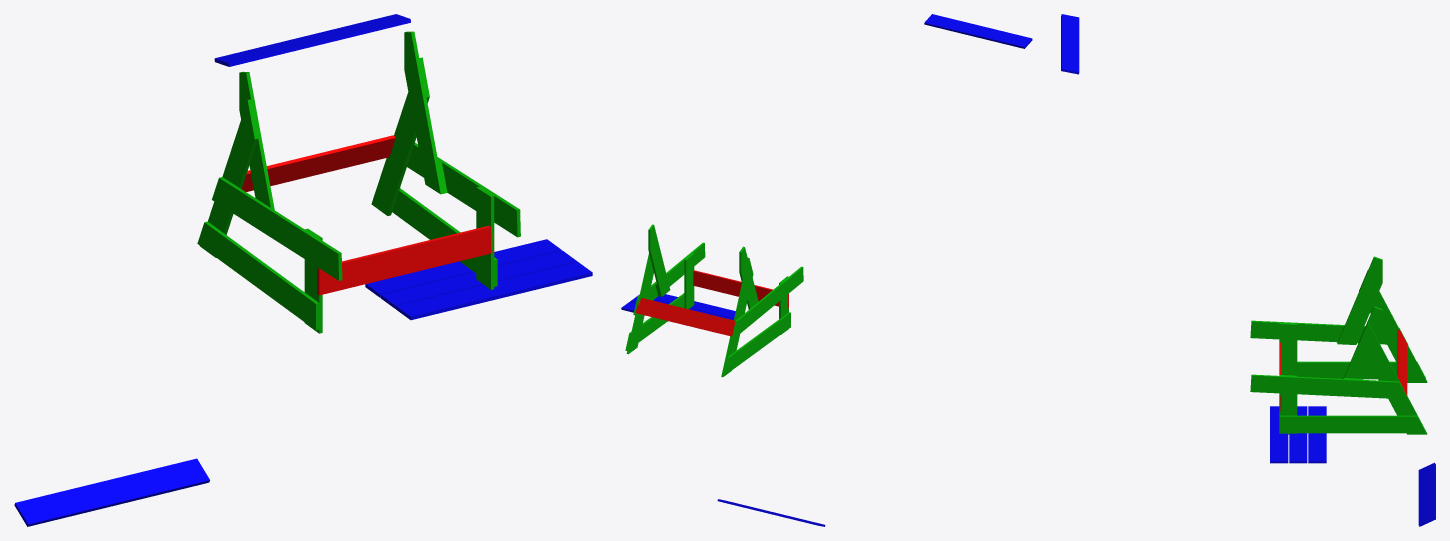
The model's file is result.glb.
The picture shows the model from 3 angles, left to right: view 1: azimuth 30°, elevation 25°; view 2: azimuth 150°, elevation 25°; view 3: azimuth 270°, elevation 25°; orthographic projection. The views are drawn at different scales.
Visible parts, largest first — view 1: e93bb5ff-88c2-441e-aba6-53cfbabfb103__Box_6, 29064bc6-d3b1-45e9-8a73-ac702ae31a4f__Plane_1, 2b52223c-5b52-4b31-a0db-f60531f8ba66__undefined, 1b99a4cc-5bf3-4616-a4fb-5c15aed0a40a__undefined, b00116c8-aac3-4a4d-a75a-b3e1e2110447__Box_4, e3aa825b-d6b2-41d5-82b6-837937b0a597__Plane_2, 0a5c7fd8-4dee-433b-a548-eaddd6d4c907__undefined, f4d912d7-915b-49dc-9384-18cebc7cd4a2__Box_1, fa933ecd-ed28-437e-928a-7f351b9d5d85__undefined, 597830af-ca4b-41d0-848a-595333e2e475__Box_3, c20e9093-051f-43f5-a5d2-168a42f6fa03__Box_2, 598ba5a5-7bb7-477b-8e8f-c9a5cd9c8aea__undefined (+5 smaller); view 2: e3aa825b-d6b2-41d5-82b6-837937b0a597__Plane_2, 597830af-ca4b-41d0-848a-595333e2e475__Box_3, 2b52223c-5b52-4b31-a0db-f60531f8ba66__undefined, 1b99a4cc-5bf3-4616-a4fb-5c15aed0a40a__undefined, 29064bc6-d3b1-45e9-8a73-ac702ae31a4f__Plane_1, 0a5c7fd8-4dee-433b-a548-eaddd6d4c907__undefined, 0a626ba4-bb88-4def-83fb-74dab95e48f7__undefined, 598ba5a5-7bb7-477b-8e8f-c9a5cd9c8aea__undefined, fa933ecd-ed28-437e-928a-7f351b9d5d85__undefined, dc344d21-0e3e-402d-bc57-09a06a281346__undefined, 7c42f0c5-e354-4944-8df0-8e3da6d6a4d5__Plane, b00116c8-aac3-4a4d-a75a-b3e1e2110447__Box_4; view 3: 598ba5a5-7bb7-477b-8e8f-c9a5cd9c8aea__undefined, 7c42f0c5-e354-4944-8df0-8e3da6d6a4d5__Plane, fa933ecd-ed28-437e-928a-7f351b9d5d85__undefined (×2), a610e9fa-6203-4c58-a8f4-d0d3d95791eb__undefined, 2b52223c-5b52-4b31-a0db-f60531f8ba66__undefined, 0a626ba4-bb88-4def-83fb-74dab95e48f7__undefined, 597830af-ca4b-41d0-848a-595333e2e475__Box_3, 1b99a4cc-5bf3-4616-a4fb-5c15aed0a40a__undefined, e93bb5ff-88c2-441e-aba6-53cfbabfb103__Box_6, 6e66ebae-b669-4c2a-bedb-cf71513a62e6__undefined, 0a5c7fd8-4dee-433b-a548-eaddd6d4c907__undefined, b00116c8-aac3-4a4d-a75a-b3e1e2110447__Box_4 (+4 smaller).
Boxes of the visible parts, bbox=[...] form: e93bb5ff-88c2-441e-aba6-53cfbabfb103__Box_6: bbox=[14, 458, 209, 526]; 29064bc6-d3b1-45e9-8a73-ac702ae31a4f__Plane_1: bbox=[317, 225, 494, 295]; 2b52223c-5b52-4b31-a0db-f60531f8ba66__undefined: bbox=[212, 177, 342, 280]; 1b99a4cc-5bf3-4616-a4fb-5c15aed0a40a__undefined: bbox=[197, 221, 319, 330]; b00116c8-aac3-4a4d-a75a-b3e1e2110447__Box_4: bbox=[396, 261, 592, 320]; e3aa825b-d6b2-41d5-82b6-837937b0a597__Plane_2: bbox=[242, 135, 395, 191]; 0a5c7fd8-4dee-433b-a548-eaddd6d4c907__undefined: bbox=[404, 31, 443, 194]; f4d912d7-915b-49dc-9384-18cebc7cd4a2__Box_1: bbox=[380, 250, 577, 308]; fa933ecd-ed28-437e-928a-7f351b9d5d85__undefined: bbox=[371, 57, 429, 215]; 597830af-ca4b-41d0-848a-595333e2e475__Box_3: bbox=[214, 14, 410, 66]; c20e9093-051f-43f5-a5d2-168a42f6fa03__Box_2: bbox=[365, 239, 561, 297]; 598ba5a5-7bb7-477b-8e8f-c9a5cd9c8aea__undefined: bbox=[407, 142, 520, 237]; e3aa825b-d6b2-41d5-82b6-837937b0a597__Plane_2: bbox=[635, 298, 735, 336]; 597830af-ca4b-41d0-848a-595333e2e475__Box_3: bbox=[924, 14, 1032, 48]; 2b52223c-5b52-4b31-a0db-f60531f8ba66__undefined: bbox=[731, 266, 803, 339]; 1b99a4cc-5bf3-4616-a4fb-5c15aed0a40a__undefined: bbox=[723, 312, 790, 374]; 29064bc6-d3b1-45e9-8a73-ac702ae31a4f__Plane_1: bbox=[693, 270, 788, 308]; 0a5c7fd8-4dee-433b-a548-eaddd6d4c907__undefined: bbox=[648, 224, 670, 296]; 0a626ba4-bb88-4def-83fb-74dab95e48f7__undefined: bbox=[721, 258, 753, 377]; 598ba5a5-7bb7-477b-8e8f-c9a5cd9c8aea__undefined: bbox=[633, 242, 705, 315]; fa933ecd-ed28-437e-928a-7f351b9d5d85__undefined: bbox=[626, 253, 653, 353]; dc344d21-0e3e-402d-bc57-09a06a281346__undefined: bbox=[684, 253, 694, 309]; 7c42f0c5-e354-4944-8df0-8e3da6d6a4d5__Plane: bbox=[625, 293, 684, 350]; b00116c8-aac3-4a4d-a75a-b3e1e2110447__Box_4: bbox=[638, 294, 735, 318]; 598ba5a5-7bb7-477b-8e8f-c9a5cd9c8aea__undefined: bbox=[1250, 374, 1408, 399]; 7c42f0c5-e354-4944-8df0-8e3da6d6a4d5__Plane: bbox=[1279, 415, 1425, 433]; fa933ecd-ed28-437e-928a-7f351b9d5d85__undefined (×2): bbox=[1359, 322, 1427, 434]; a610e9fa-6203-4c58-a8f4-d0d3d95791eb__undefined: bbox=[1337, 256, 1382, 344]; 2b52223c-5b52-4b31-a0db-f60531f8ba66__undefined: bbox=[1250, 320, 1408, 344]; 0a626ba4-bb88-4def-83fb-74dab95e48f7__undefined: bbox=[1359, 270, 1427, 382]; 597830af-ca4b-41d0-848a-595333e2e475__Box_3: bbox=[1061, 14, 1079, 74]; 1b99a4cc-5bf3-4616-a4fb-5c15aed0a40a__undefined: bbox=[1297, 361, 1425, 379]; e93bb5ff-88c2-441e-aba6-53cfbabfb103__Box_6: bbox=[1418, 462, 1435, 526]; 6e66ebae-b669-4c2a-bedb-cf71513a62e6__undefined: bbox=[1279, 323, 1297, 375]; 0a5c7fd8-4dee-433b-a548-eaddd6d4c907__undefined: bbox=[1343, 306, 1382, 378]; b00116c8-aac3-4a4d-a75a-b3e1e2110447__Box_4: bbox=[1270, 406, 1288, 463].
Size of the model in its own units: 2051 by 2566 by 2019.
